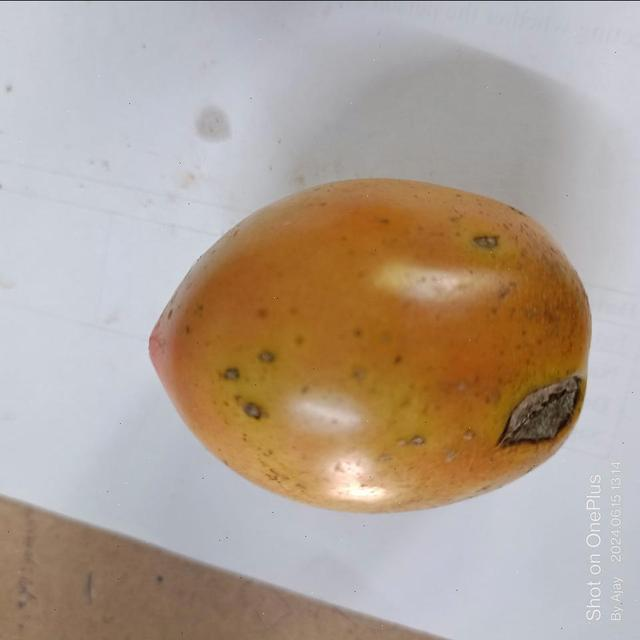Bacterial Spot Fruit: (13, 12, 357, 275)
